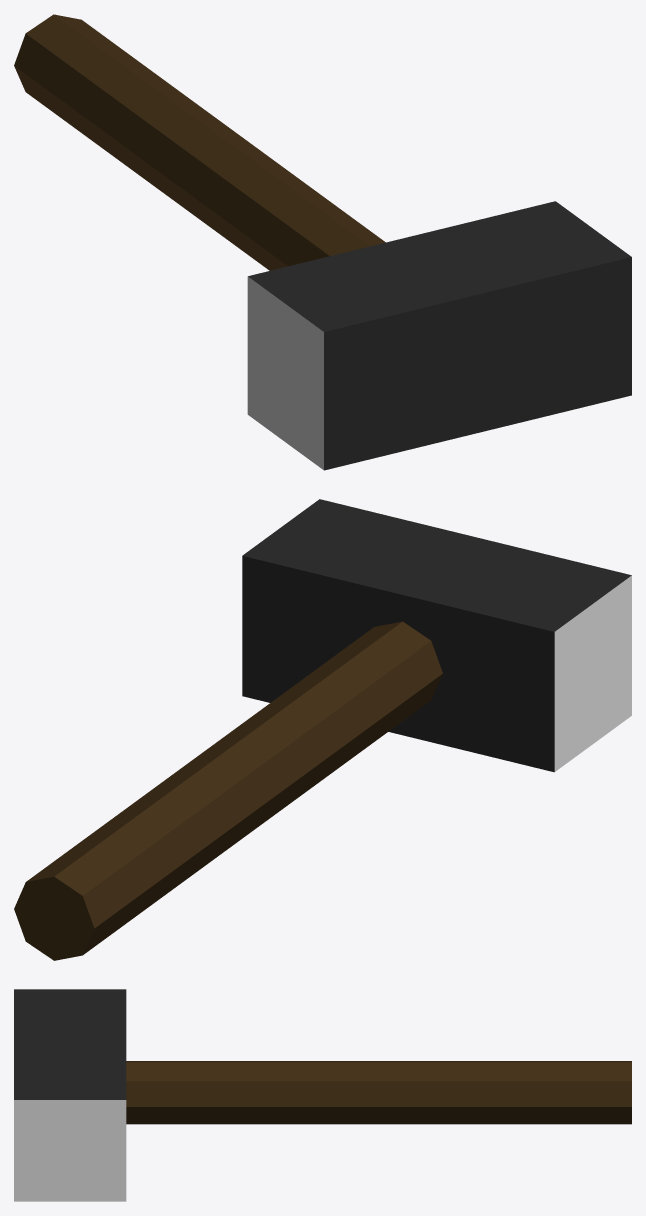
File: BlackSmithHammer.fbx
3 views of the same model, one above another, from view 1: azimuth 30°, elevation 25°; view 2: azimuth 150°, elevation 25°; view 3: azimuth 270°, elevation 25° (orthographic). The views are drawn at different scales.
Parts seen in each view (by area): view 1: BlacksmithHammer_MESH; view 2: BlacksmithHammer_MESH; view 3: BlacksmithHammer_MESH.
Part boxes in pixels (x1,y1,x2,y2): BlacksmithHammer_MESH: (14,14,631,470); BlacksmithHammer_MESH: (14,499,631,960); BlacksmithHammer_MESH: (14,989,631,1201).
Bounding box in the file's own units: 0.4656 × 0.2 × 1.1.
